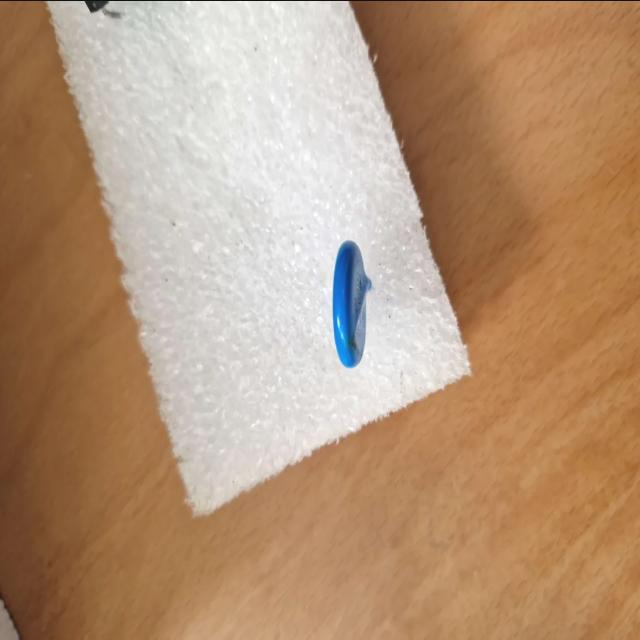E: (332, 242, 372, 366)
